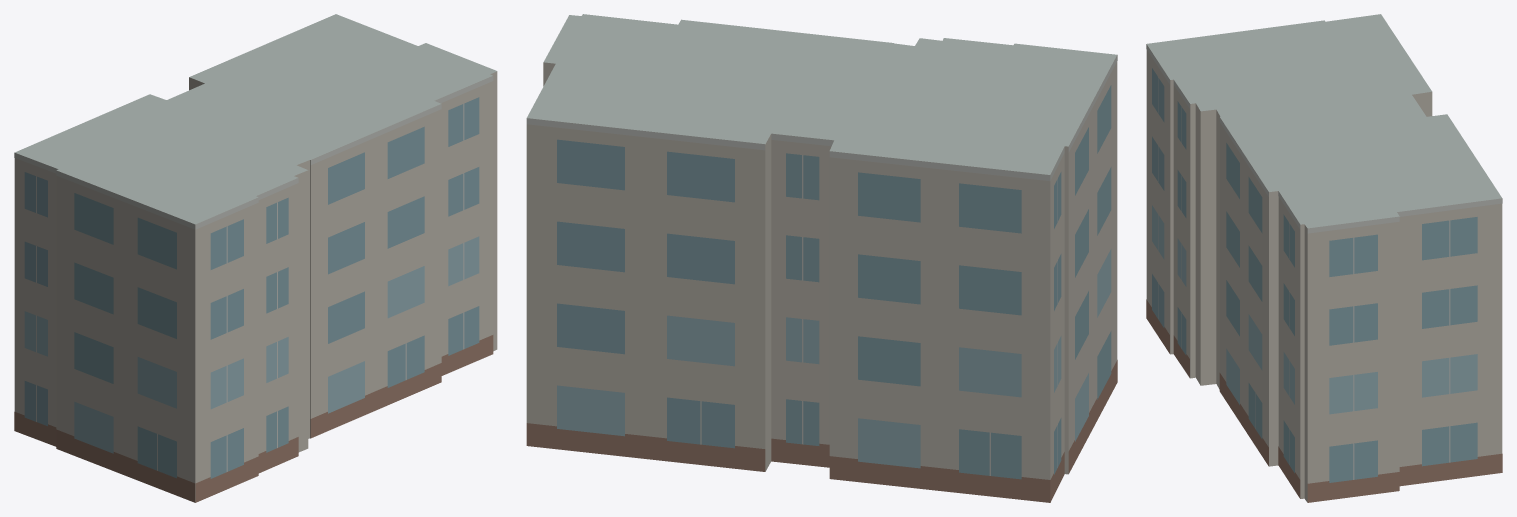
The model's file is survey-upis-32666271.glb.
3 views of the same model, side by side, from view 1: azimuth 30°, elevation 25°; view 2: azimuth 150°, elevation 25°; view 3: azimuth 270°, elevation 25° (orthographic). The views are drawn at different scales.
Visible parts, largest first — view 1: survey-upis-32666271.tmp; view 2: survey-upis-32666271.tmp; view 3: survey-upis-32666271.tmp.
Boxes of the visible parts, x1=… form: survey-upis-32666271.tmp: x1=14, y1=14, x2=497, y2=502; survey-upis-32666271.tmp: x1=526, y1=14, x2=1117, y2=502; survey-upis-32666271.tmp: x1=1146, y1=14, x2=1502, y2=502.
Bounding box in the file's own units: 21.62 × 12.9 × 15.17.
